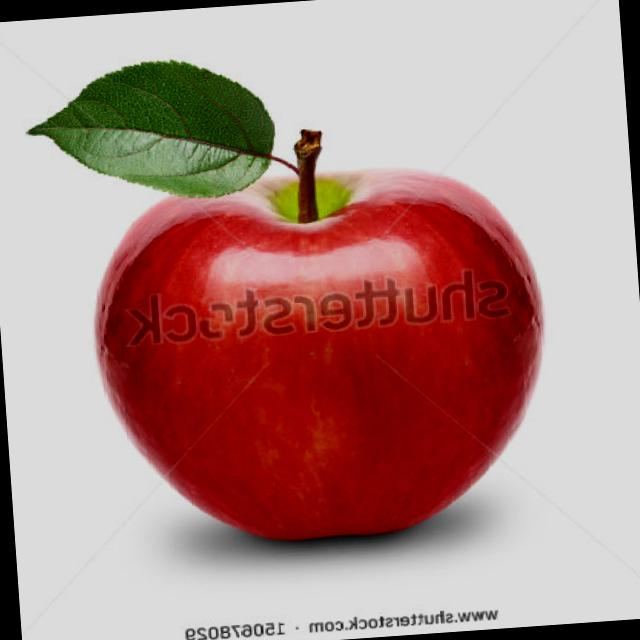apple: (70, 150, 557, 565)
